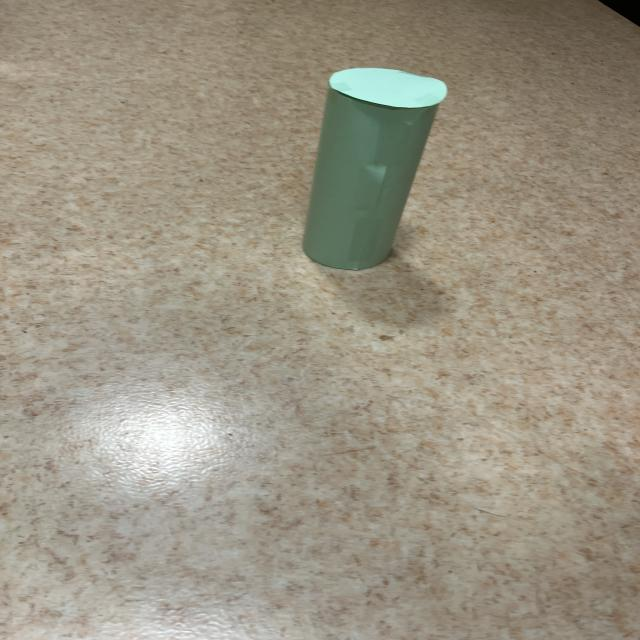meta: (303, 68, 447, 270)
